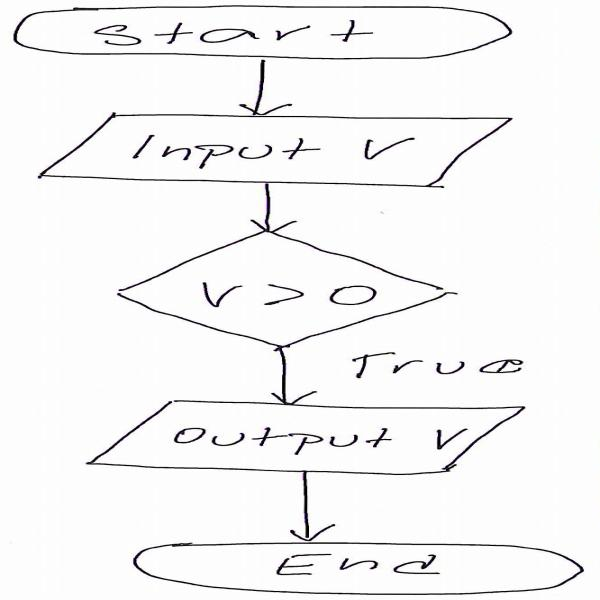arrow: (261, 470, 345, 542), (250, 350, 329, 404), (225, 58, 284, 114), (235, 185, 298, 232)
data: (81, 401, 536, 476), (36, 115, 514, 186)
decision: (110, 230, 459, 349)
terminator: (20, 9, 509, 56), (135, 543, 581, 592)
text: (180, 419, 462, 459), (79, 18, 408, 50), (173, 274, 401, 310), (137, 134, 435, 161), (335, 340, 534, 378), (262, 551, 502, 578)
